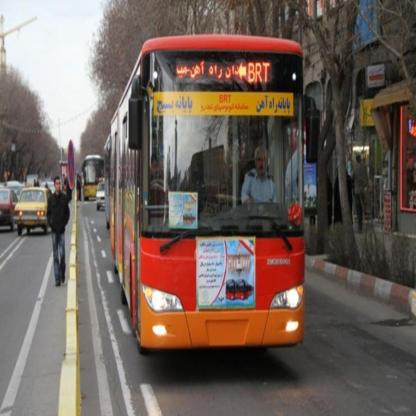Bus: (105, 35, 310, 366), (82, 156, 105, 202)
Car: (15, 185, 53, 228), (0, 188, 20, 234), (97, 179, 109, 210)
